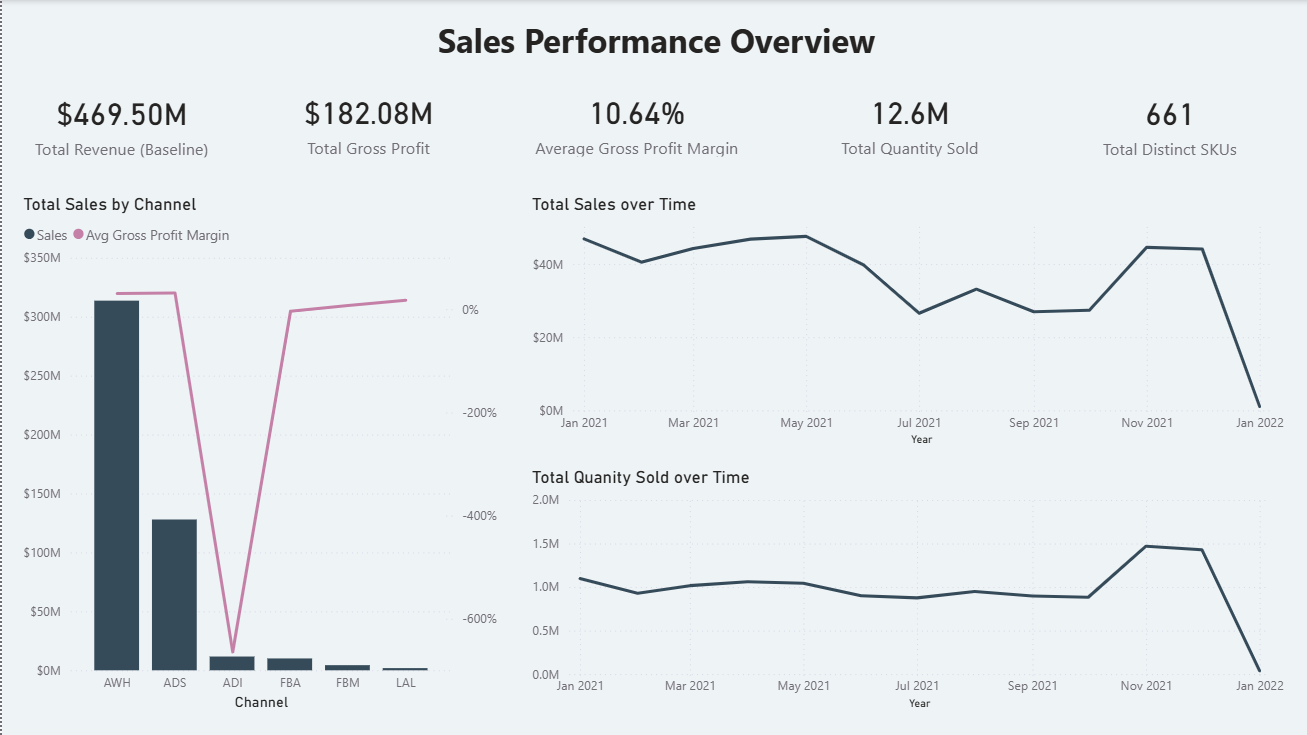

The dashboard page shown, as its layout file describes it:
{"tool":"powerbi","page":{"name":"Sales Performance Overview","canvas":[1280,720],"ordinal":0},"visuals":[{"type":"card","fields":{"Values":["Sum(Sales_ Data.calc_revenue)"]},"box":[15.9,81.9,203,77],"z":0},{"type":"lineStackedColumnComboChart","title":"Total Sales by Channel","fields":{"Category":["Sales_ Data.channel"],"Y":["Sum(Sales_ Data.calc_revenue)"],"Y2":["Avg(Sales_ Data.gross_profit_margin)"]},"box":[15.9,189.5,474.5,509.9],"z":1000},{"type":"lineChart","title":"Total Quanity Sold over Time","fields":{"Category":["Sales_ Data.shipped_date.Variation.Date Hierarchy.Year","Sales_ Data.shipped_date.Variation.Date Hierarchy.Quarter","Sales_ Data.shipped_date.Variation.Date Hierarchy.Month"],"Y":["Sum(Sales_ Data.qty)"]},"box":[513.6,456.1,745.9,243.3],"z":2000},{"type":"card","fields":{"Values":["Sum(Sales_ Data.gross_profit)"]},"box":[257.1,81.9,204.2,75.8],"z":3000},{"type":"lineChart","title":"Total Sales over Time","fields":{"Y":["Sum(Sales_ Data.calc_revenue)"],"Category":["Sales_ Data.shipped_date.Variation.Date Hierarchy.Year","Sales_ Data.shipped_date.Variation.Date Hierarchy.Quarter","Sales_ Data.shipped_date.Variation.Date Hierarchy.Month"]},"box":[513.6,189.5,745.9,251.9],"z":4000},{"type":"card","fields":{"Values":["Avg(Sales_ Data.gross_profit_margin)"]},"box":[499.5,81.9,242.1,75.8],"z":5000},{"type":"card","fields":{"Values":["Count(ABC.sku)"]},"box":[1034.5,81.9,216.4,77],"z":6000},{"type":"card","fields":{"Values":["Sum(Sales_ Data.qty)"]},"box":[779.9,81.9,216.4,75.8],"z":7000},{"type":"textbox","box":[382.6,12.2,514.8,69.7],"z":8000}]}

Visuals, with their boxes in screenshot pixels (x1, y1, x2, y2), scaled from the page's 1280x720 canvas onto the 1307x735 screenshot:
card - Sum(Sales_ Data.calc_revenue): region(16, 84, 224, 162)
"Total Sales by Channel" lineStackedColumnComboChart: region(16, 193, 501, 714)
"Total Quanity Sold over Time" lineChart: region(524, 466, 1286, 714)
card - Sum(Sales_ Data.gross_profit): region(263, 84, 471, 161)
"Total Sales over Time" lineChart: region(524, 193, 1286, 451)
card - Avg(Sales_ Data.gross_profit_margin): region(510, 84, 757, 161)
card - Count(ABC.sku): region(1056, 84, 1277, 162)
card - Sum(Sales_ Data.qty): region(796, 84, 1017, 161)
textbox: region(391, 12, 916, 84)
